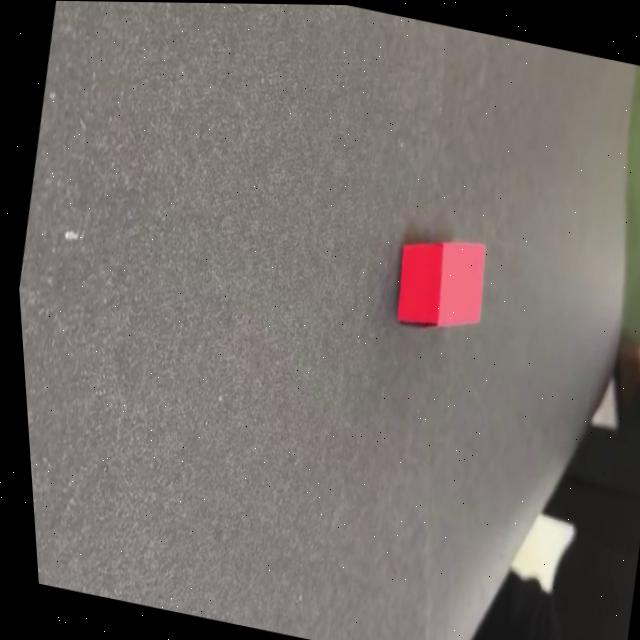red block: (386, 226, 498, 343)
